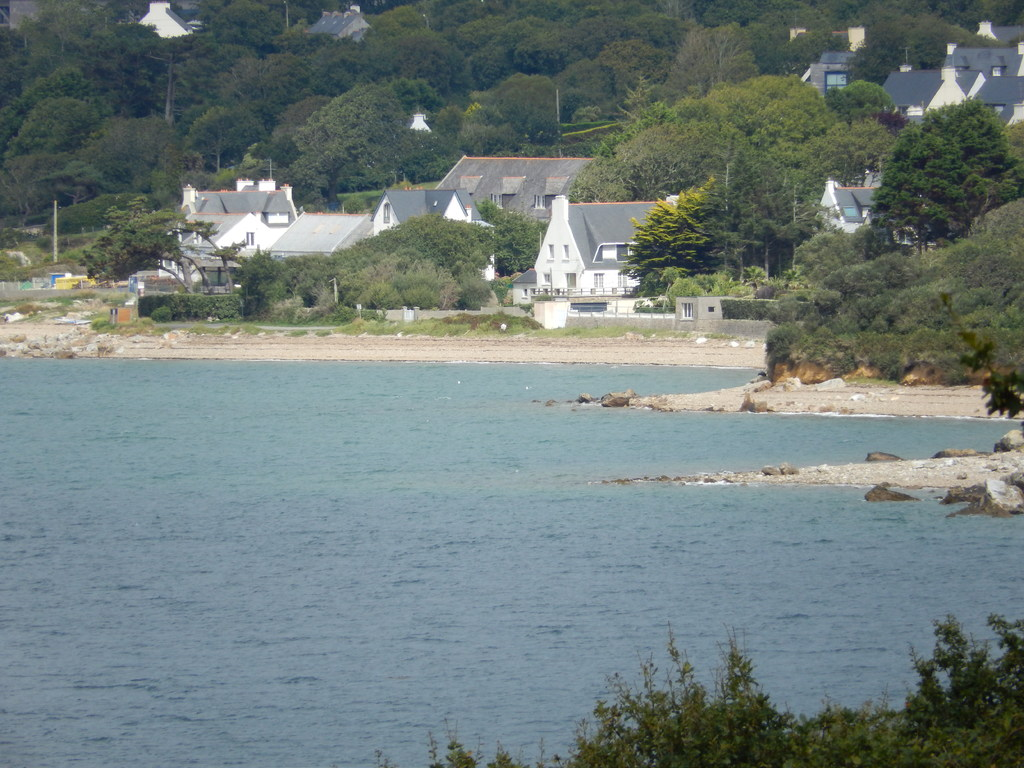Tree: (771, 201, 1023, 399), (887, 72, 1016, 241), (629, 161, 792, 283), (576, 112, 750, 221), (40, 17, 227, 115), (293, 70, 437, 193), (197, 15, 337, 111), (691, 69, 812, 172), (470, 82, 620, 165), (822, 76, 910, 192), (1, 107, 85, 226), (167, 88, 274, 173), (598, 0, 687, 95), (368, 30, 467, 113), (89, 117, 196, 184), (508, 7, 597, 78), (904, 14, 993, 76), (675, 15, 745, 92), (843, 18, 919, 69), (764, 26, 843, 71), (558, 56, 609, 111)
